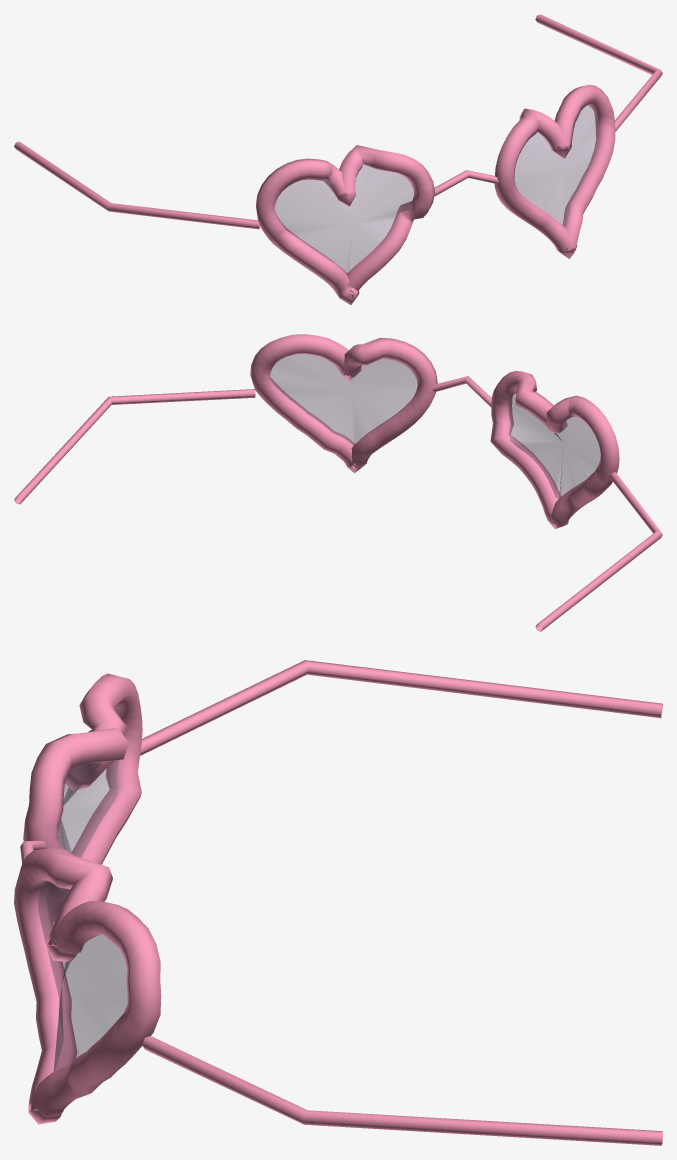
Rendered from glasses_heart_chick_tailored.glb.
3 views of the same model, one above another, from view 1: azimuth 30°, elevation 25°; view 2: azimuth 150°, elevation 25°; view 3: azimuth 270°, elevation 25° (orthographic). The views are drawn at different scales.
Parts seen in each view (by area): view 1: Montura.018, Lente ahumada.012, Montura.019, Lente ahumada.013, Patilla curva.018, Patilla curva.019, Puente nasal.009; view 2: Montura.019, Montura.018, Lente ahumada.013, Lente ahumada.012, Patilla curva.019, Patilla curva.018, Puente nasal.009; view 3: Montura.019, Montura.018, Patilla curva.019, Patilla curva.018, Lente ahumada.013, Lente ahumada.012.
Part boxes in pixels (x1=…): Montura.018: x1=255, y1=145, x2=434, y2=304; Lente ahumada.012: x1=275, y1=163, x2=414, y2=276; Montura.019: x1=494, y1=84, x2=615, y2=258; Lente ahumada.013: x1=514, y1=105, x2=598, y2=227; Patilla curva.018: x1=14, y1=141, x2=260, y2=229; Patilla curva.019: x1=535, y1=14, x2=662, y2=131; Puente nasal.009: x1=434, y1=170, x2=498, y2=196; Montura.019: x1=250, y1=334, x2=437, y2=472; Montura.018: x1=490, y1=370, x2=619, y2=528; Lente ahumada.013: x1=270, y1=354, x2=417, y2=445; Lente ahumada.012: x1=508, y1=392, x2=600, y2=499; Patilla curva.019: x1=14, y1=389, x2=255, y2=504; Patilla curva.018: x1=535, y1=472, x2=662, y2=631; Puente nasal.009: x1=432, y1=376, x2=491, y2=407; Montura.019: x1=14, y1=847, x2=161, y2=1124; Montura.018: x1=23, y1=673, x2=142, y2=922; Patilla curva.019: x1=142, y1=1036, x2=662, y2=1145; Patilla curva.018: x1=140, y1=660, x2=662, y2=755; Lente ahumada.013: x1=38, y1=881, x2=127, y2=1071; Lente ahumada.012: x1=58, y1=708, x2=120, y2=857.
Bounding box in the file's own units: 0.7273 × 0.1813 × 0.4375.
